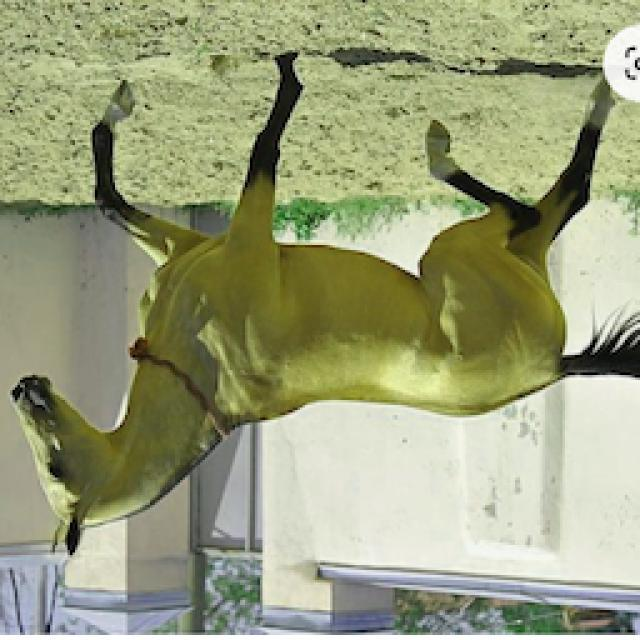Horse: (2, 50, 638, 562)
